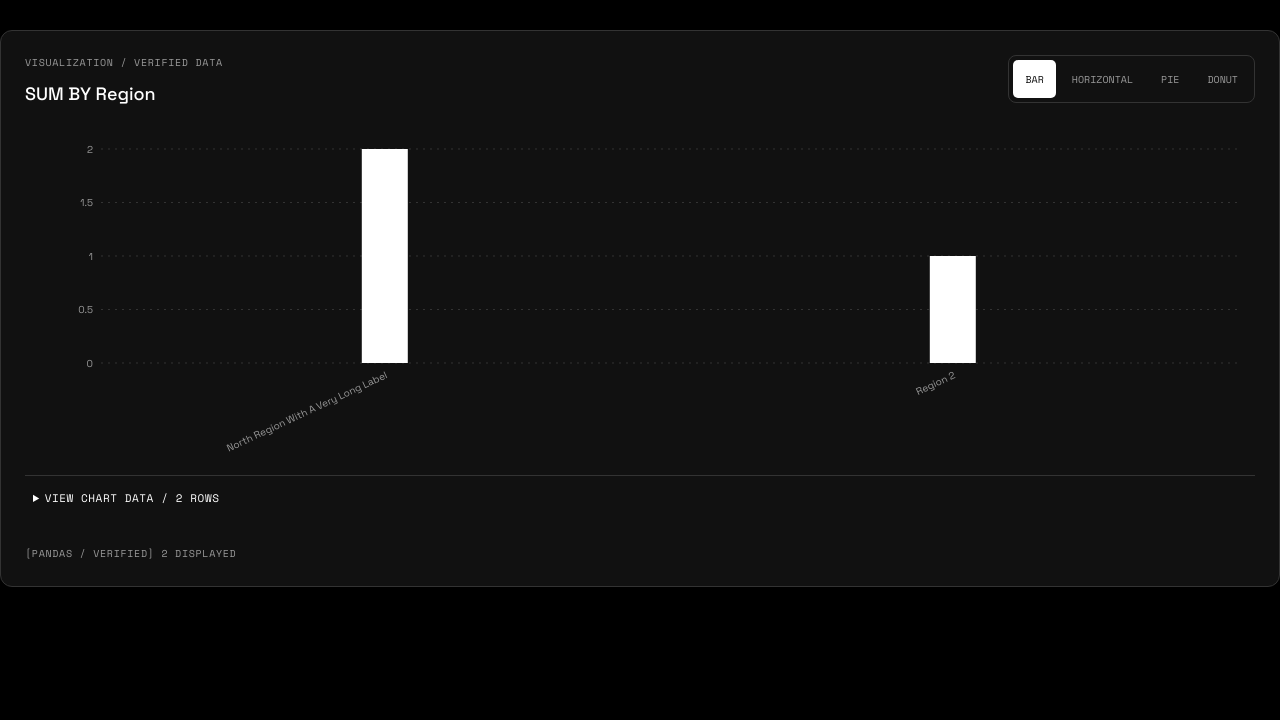
VerifiedChart interactions › shows a collapsible table of plotted values
Check: the element showing "VIEW CHART DATA / 2 ROWS" is shown, box 25,475 -> 1255,520
Click the heading "VIEW CHART DATA / 2 ROWS": (132,498) 45,490 -> 219,506
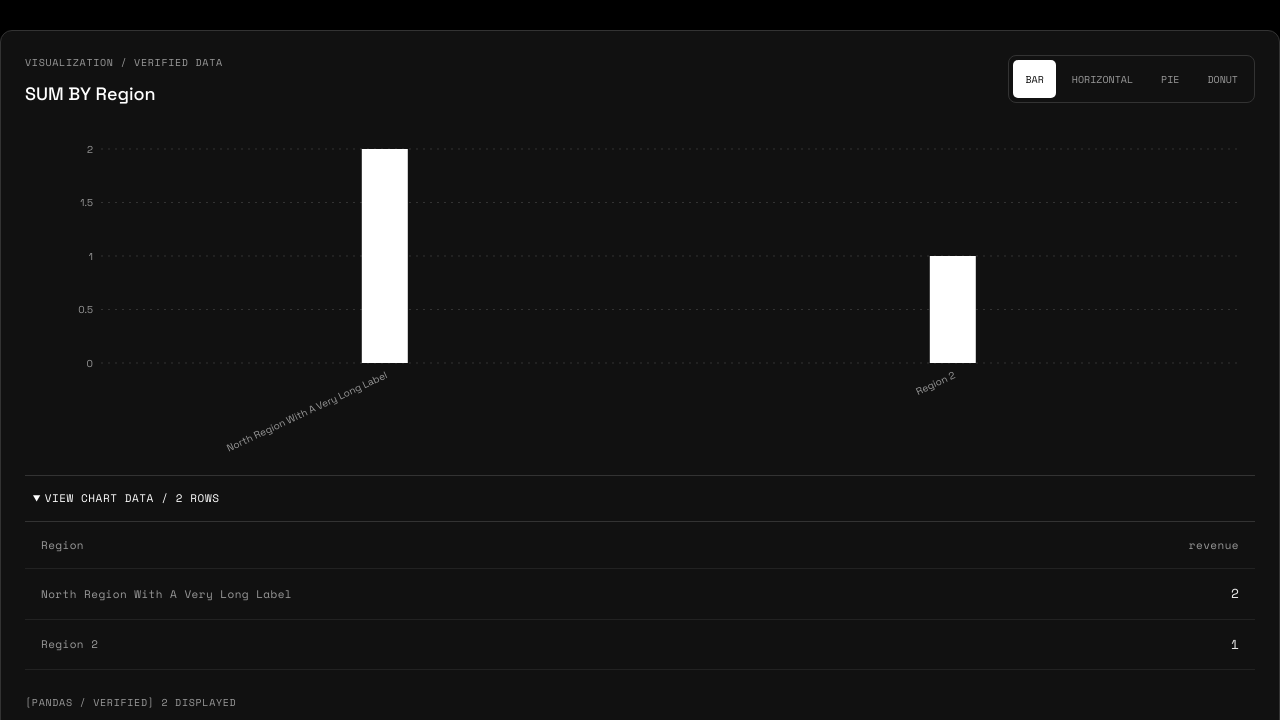
Check: the table shows "North Region With A Very Long Label", box 41,586 -> 292,602
Check: the table shows "Region 2", box 41,636 -> 98,652
Check: the number of rows is 3, box 25,522 -> 1255,568; 25,569 -> 1255,619; 25,619 -> 1255,670
